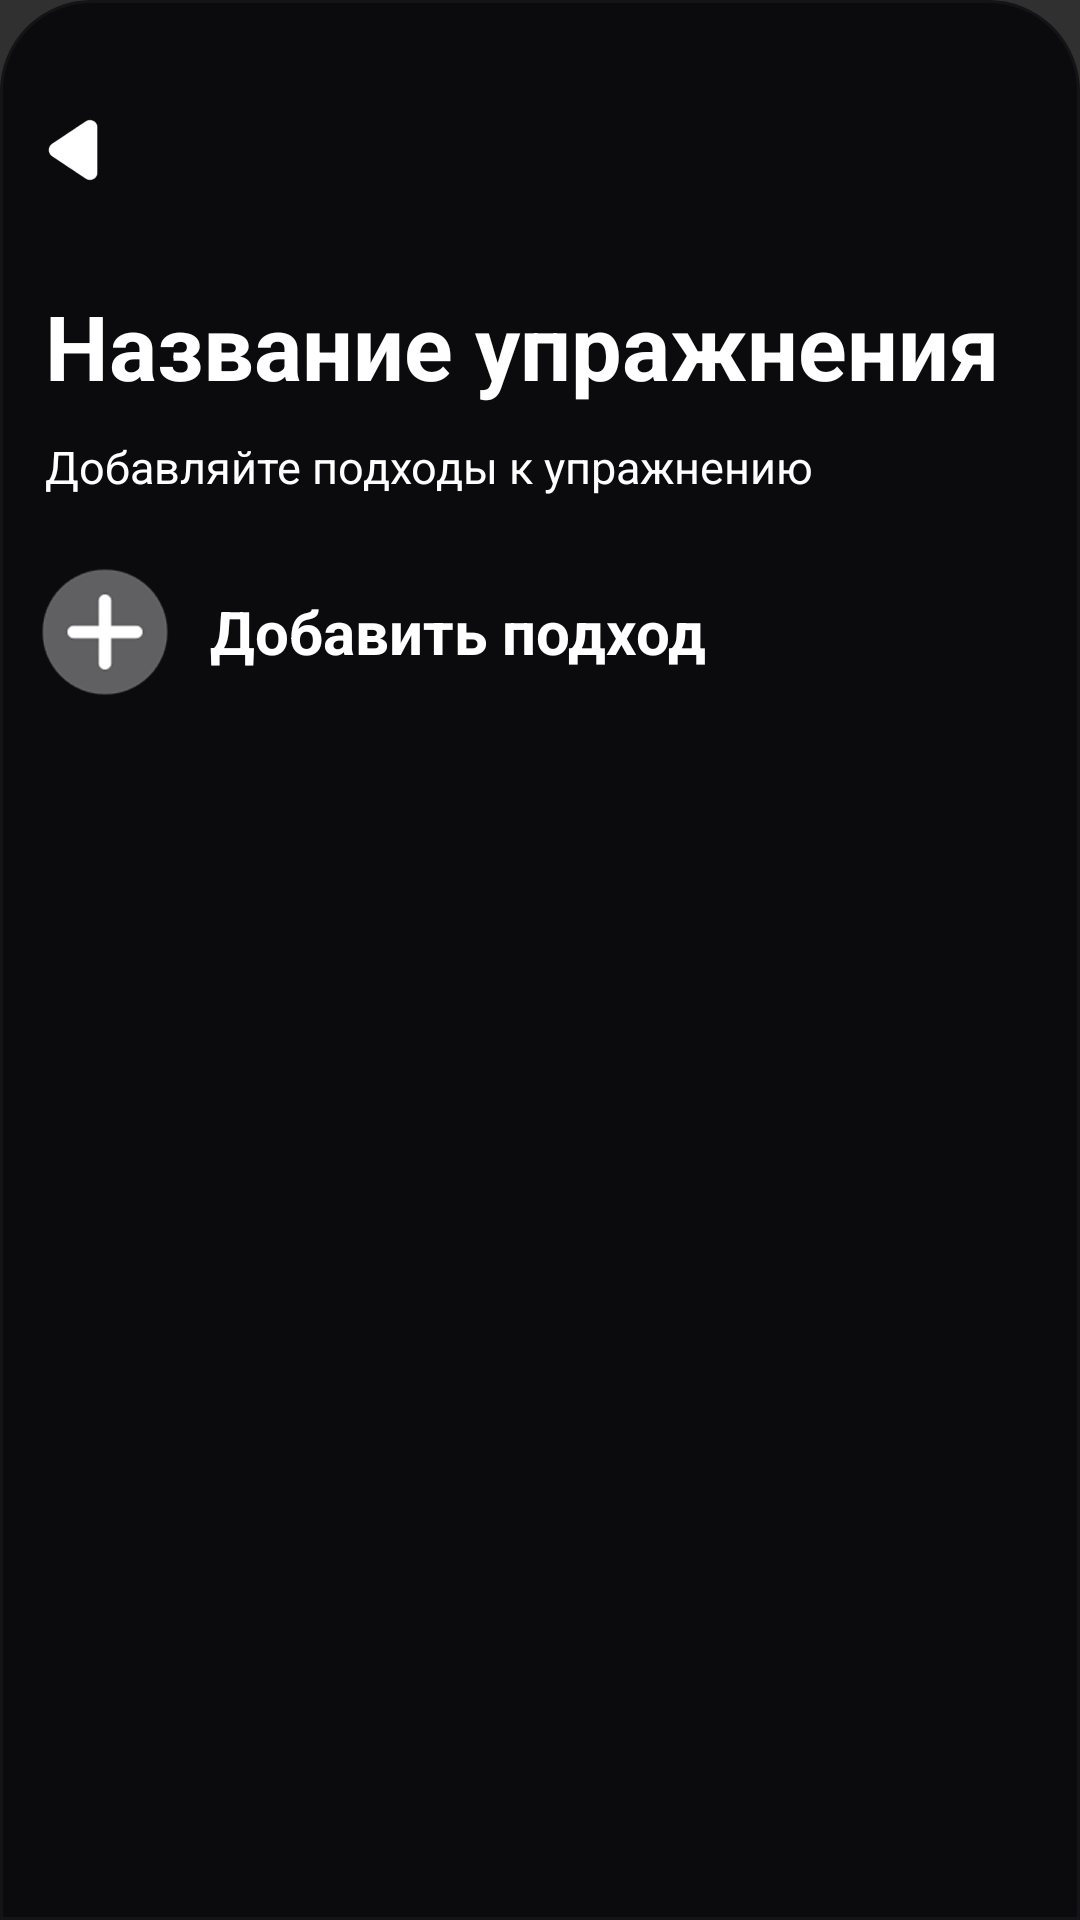

Icons on this 1080*1920 Android screen, each with its box as Rect(x1, y1, x2, y2):
back: Rect(48, 120, 98, 180)
plus ex: Rect(42, 569, 168, 695)
